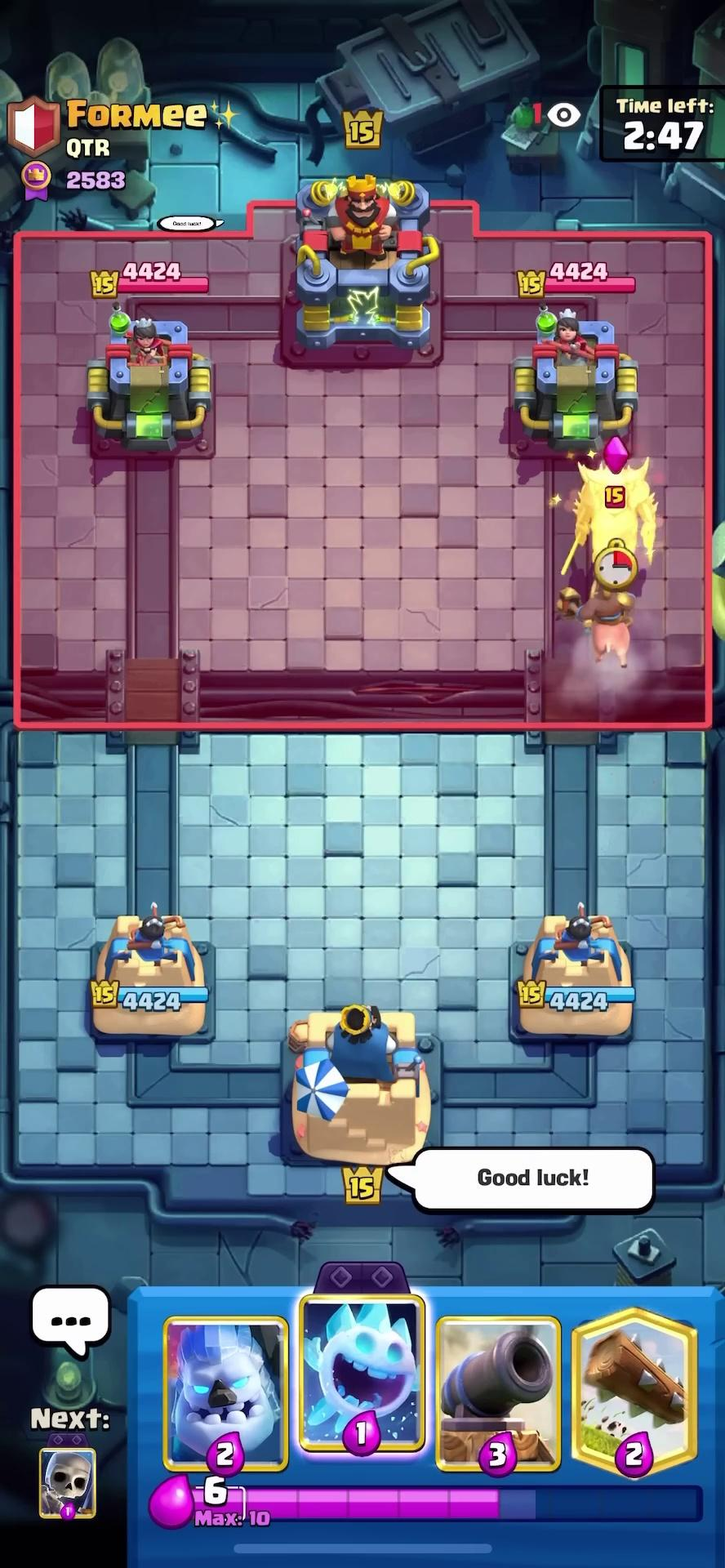hog_rider: (563, 555, 647, 664)
